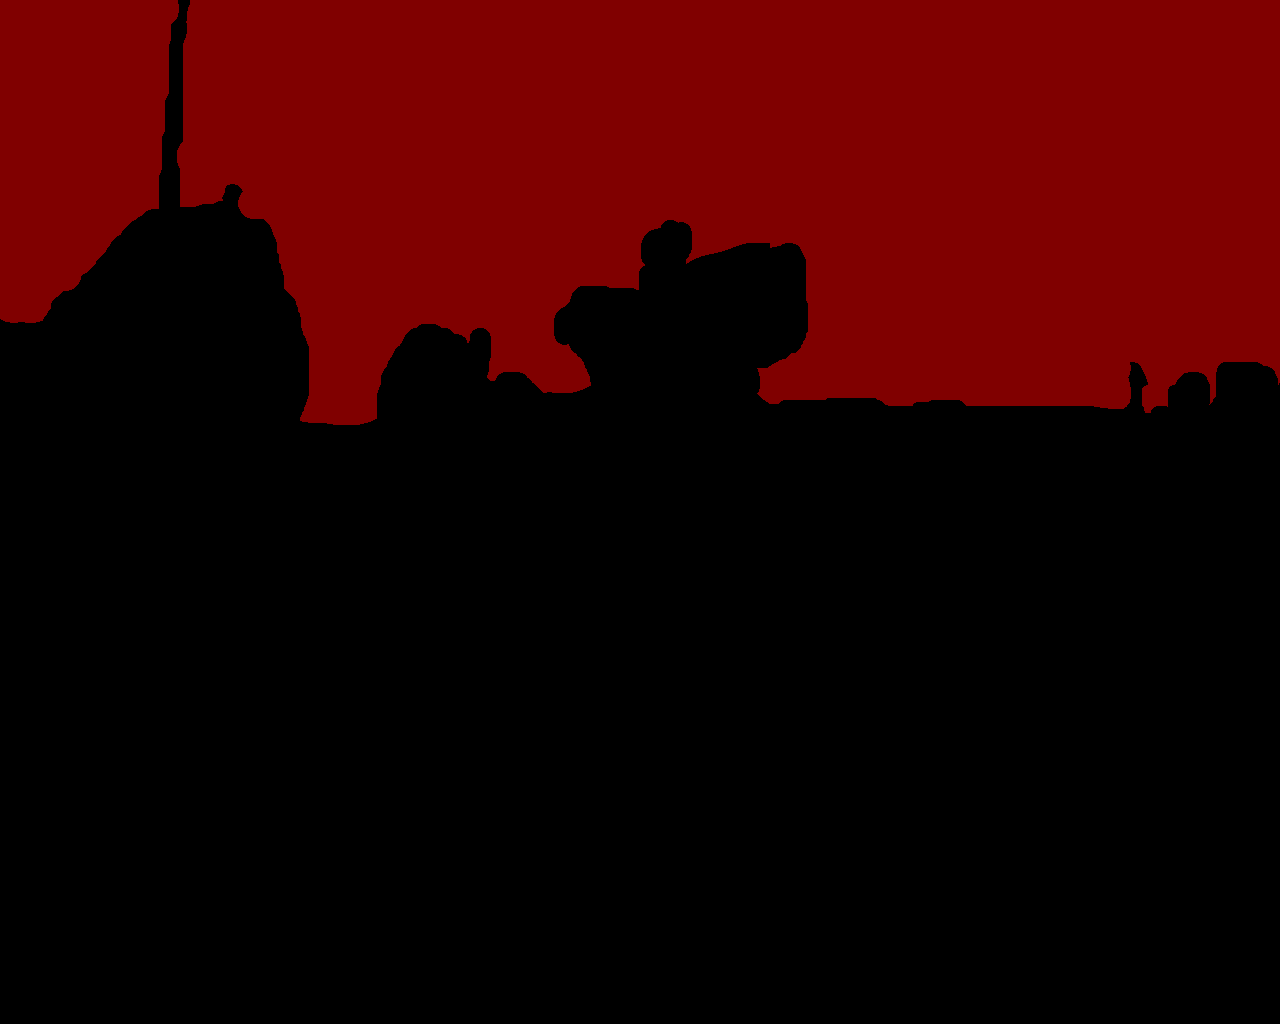Sky: (1, 1, 1279, 425)
